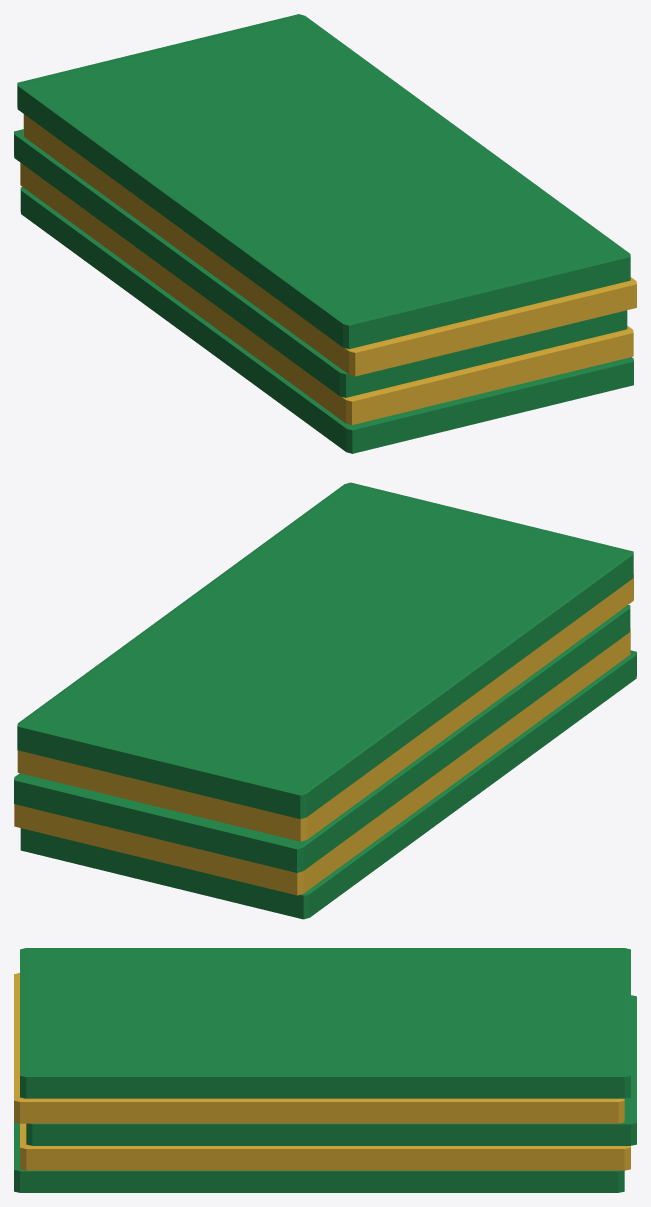
The model's file is mat_stack.glb.
The picture shows the model from 3 angles, top to bottom: view 1: azimuth 30°, elevation 25°; view 2: azimuth 150°, elevation 25°; view 3: azimuth 270°, elevation 25°; orthographic projection. The views are drawn at different scales.
Visible parts, largest first — view 1: Cube; view 2: Cube; view 3: Cube.
Boxes of the visible parts, bbox=[...] form: Cube: bbox=[14, 14, 636, 453]; Cube: bbox=[14, 482, 636, 919]; Cube: bbox=[14, 948, 636, 1192].
Bounding box in the file's own units: 1.01 × 0.42 × 2.04.
